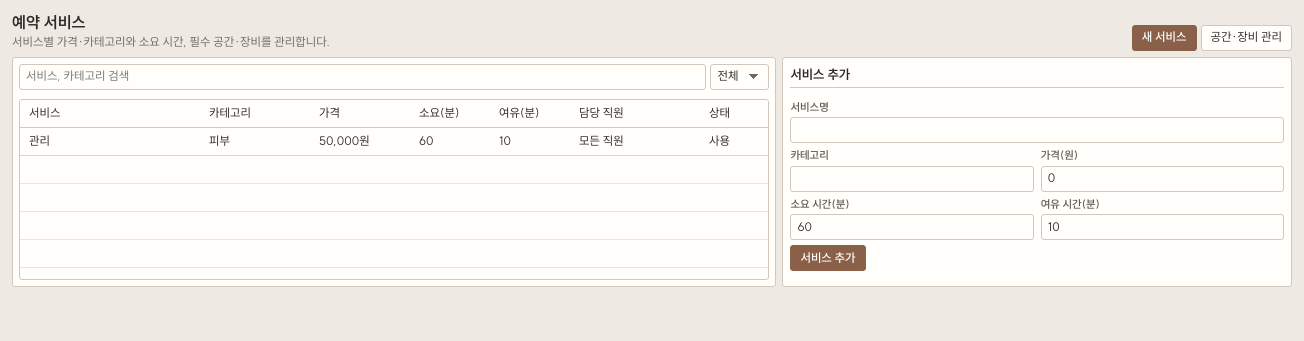
SVC-10 서비스 수정·비활성 › 행을 선택하면 편집 양식이 채워지고 저장은 service_version·멱등 키와 함께 PUT 한다
Click the text "관리" at (110, 142), box [20,128,200,156]
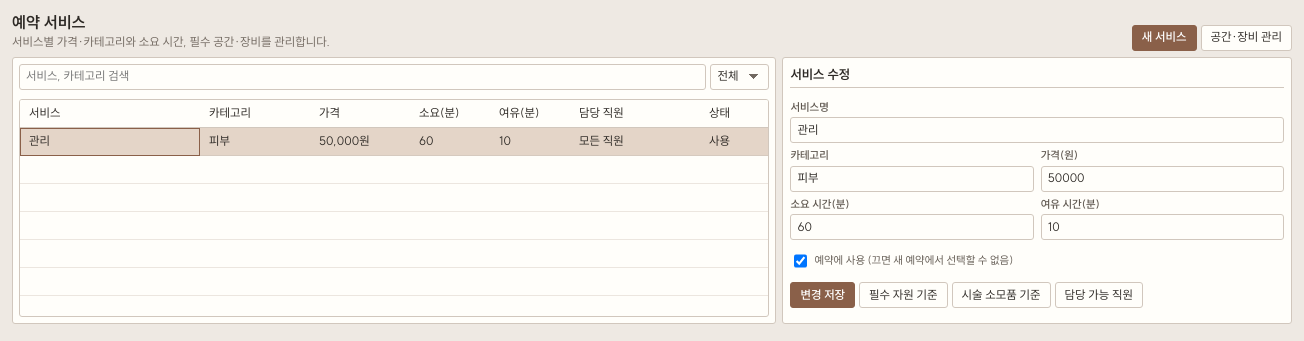
expect the field labelled "서비스명" holds "관리": met, box [790,117,1284,143]
expect the field labelled "가격(원)" holds "50000": met
expect the field labelled "카테고리" holds "피부": met, box [790,166,1034,192]
Replace the text in the field labelled "가격(원)" with "70000" at (1162, 179), box [1041,166,1284,192]
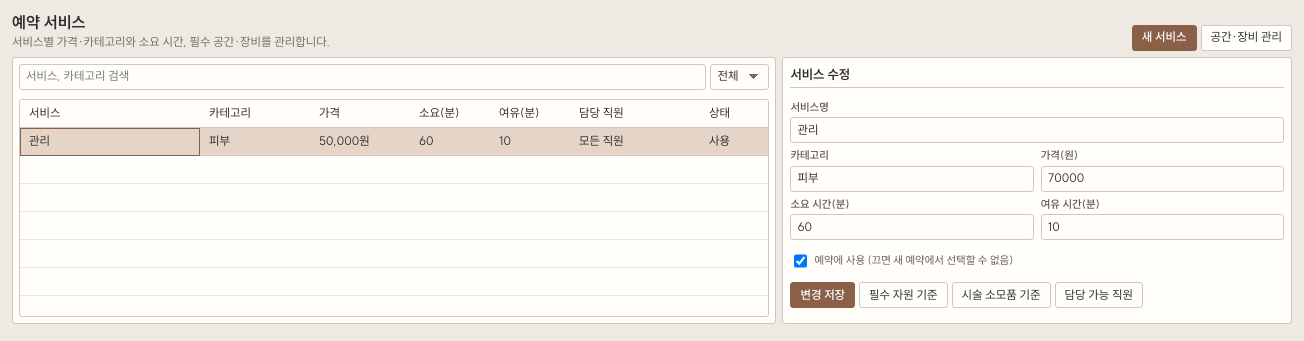
Click the button "변경 저장" at (823, 295), box [790,282,855,308]
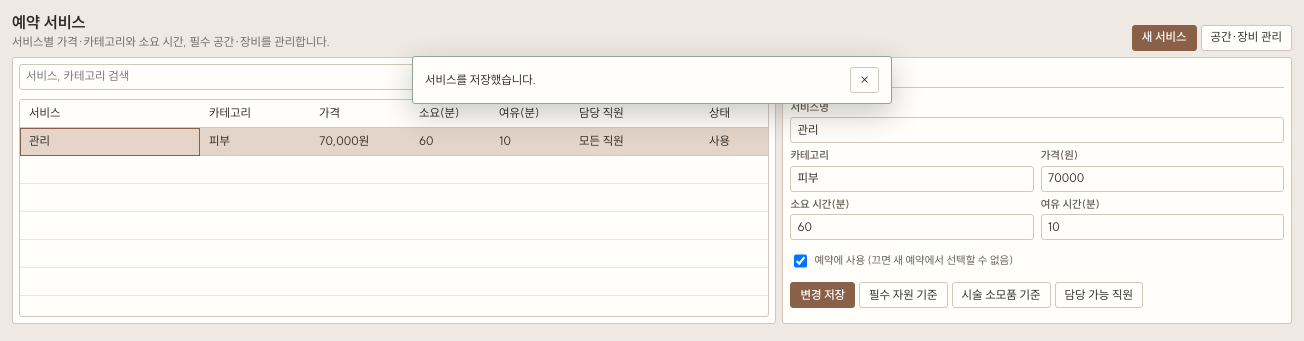
expect the text "70,000원" is shown: met, box [310,128,410,156]
